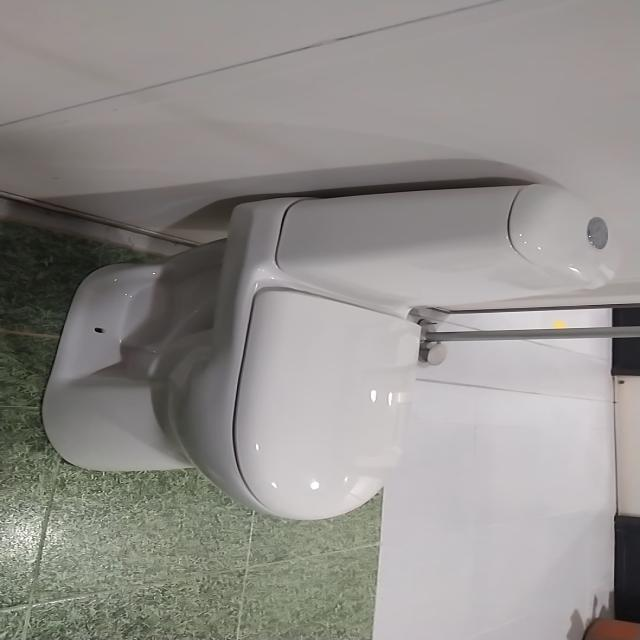toilet: (39, 182, 615, 521)
